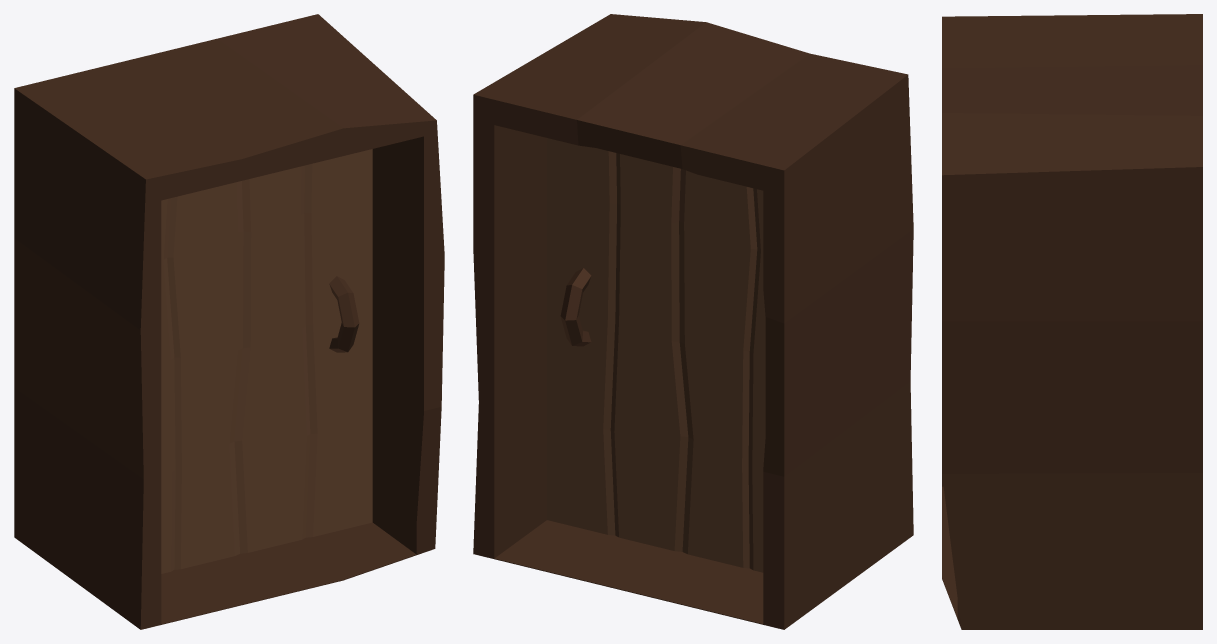
The model's file is wooden_door_thick.glb.
3 views of the same model, side by side, from view 1: azimuth 30°, elevation 25°; view 2: azimuth 150°, elevation 25°; view 3: azimuth 270°, elevation 25° (orthographic). The views are drawn at different scales.
Visible parts, largest first — view 1: Doorframe, Door; view 2: Doorframe, Door; view 3: Doorframe.
Boxes of the visible parts, <box> form: Doorframe: <box>14,14,444,629</box>; Door: <box>161,149,372,573</box>; Doorframe: <box>473,14,913,629</box>; Door: <box>547,138,765,572</box>; Doorframe: <box>942,14,1202,629</box>.
Bounding box in the file's own units: 1.7 × 2.41 × 1.22.
